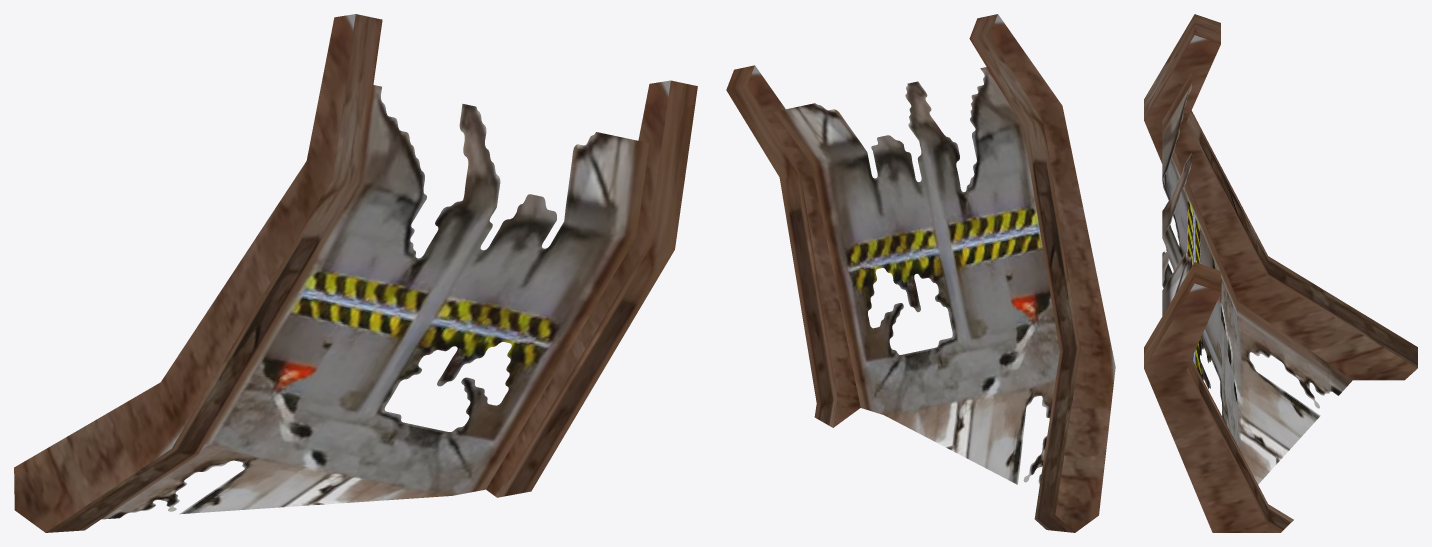
File: junk5_hdtex.glb
3 renders of one model, left to right at view 1: azimuth 30°, elevation 25°; view 2: azimuth 150°, elevation 25°; view 3: azimuth 270°, elevation 25°, orthographic. The views are drawn at different scales.
Visible parts, largest first — view 1: Junk2; view 2: Junk2; view 3: Junk2.
Boxes of the visible parts, x1,y1,x2,y2 form: Junk2: [14, 14, 697, 532]; Junk2: [726, 14, 1115, 532]; Junk2: [1144, 14, 1417, 532].
Size of the model in its own units: 11.08 by 9.99 by 5.6.
1 material, 1 textured.
